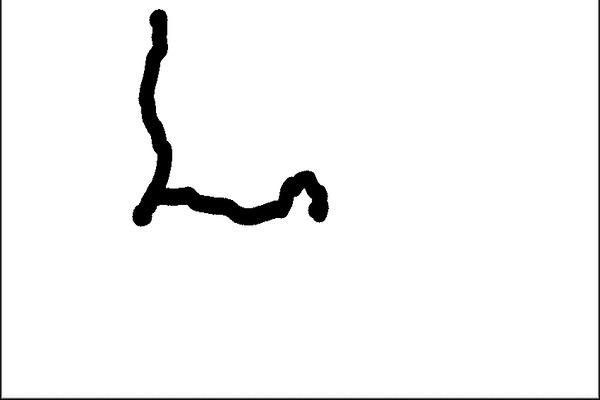L: (127, 4, 331, 236)
